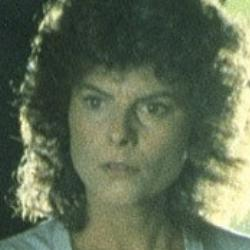face: (27, 2, 245, 222)
